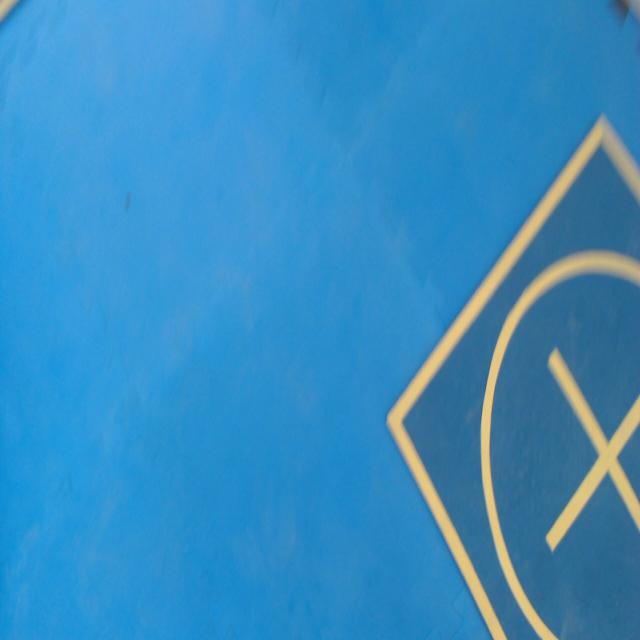base_pouso: (388, 111, 639, 639)
